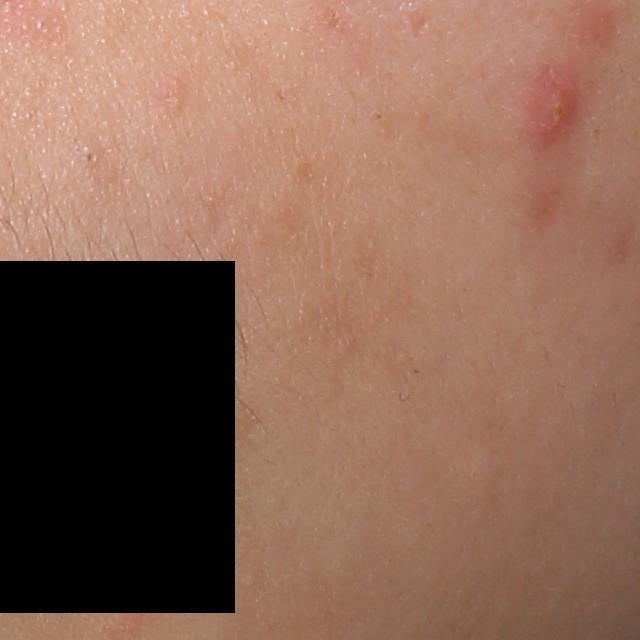atrophic_scar: (410, 9, 431, 45)
comedo: (79, 144, 106, 170)
papule: (528, 67, 585, 142)
